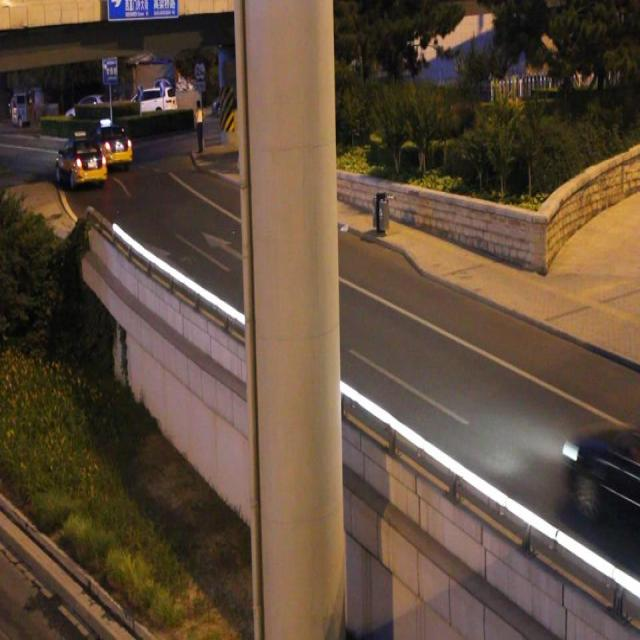car: (56, 141, 106, 183), (89, 124, 133, 166)
